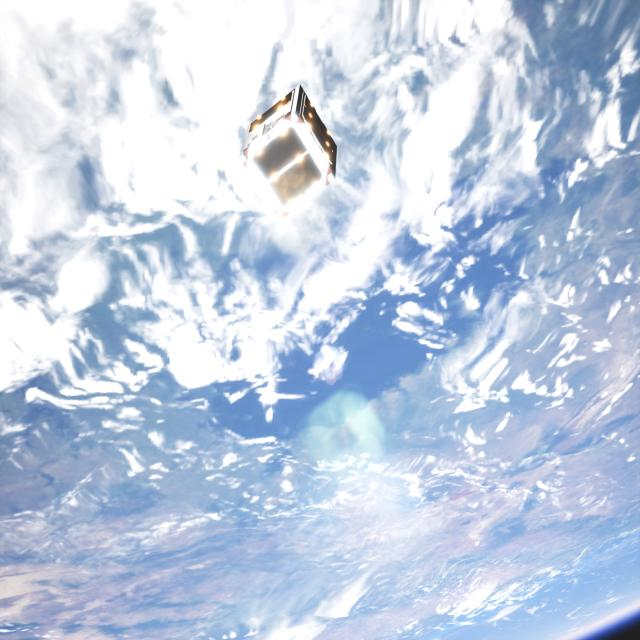satellite: (233, 83, 350, 219)
